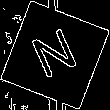N_SE: (26, 24, 84, 86)
